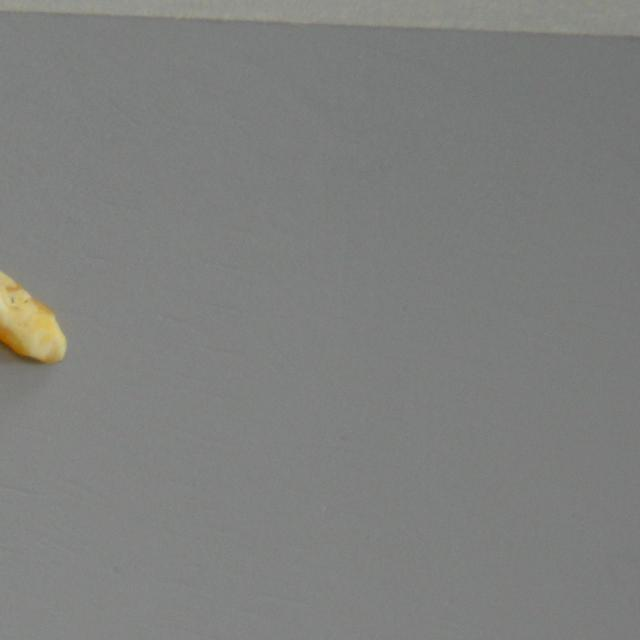punto_negro: (0, 260, 68, 364)
